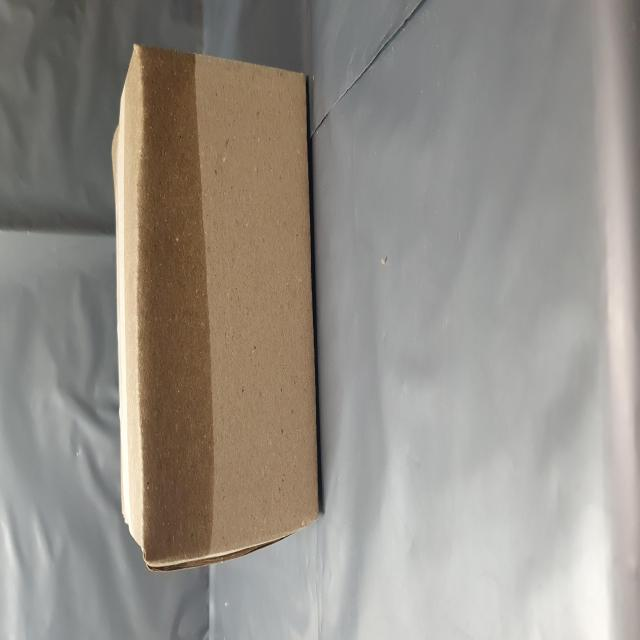wet: (42, 223, 339, 386)
